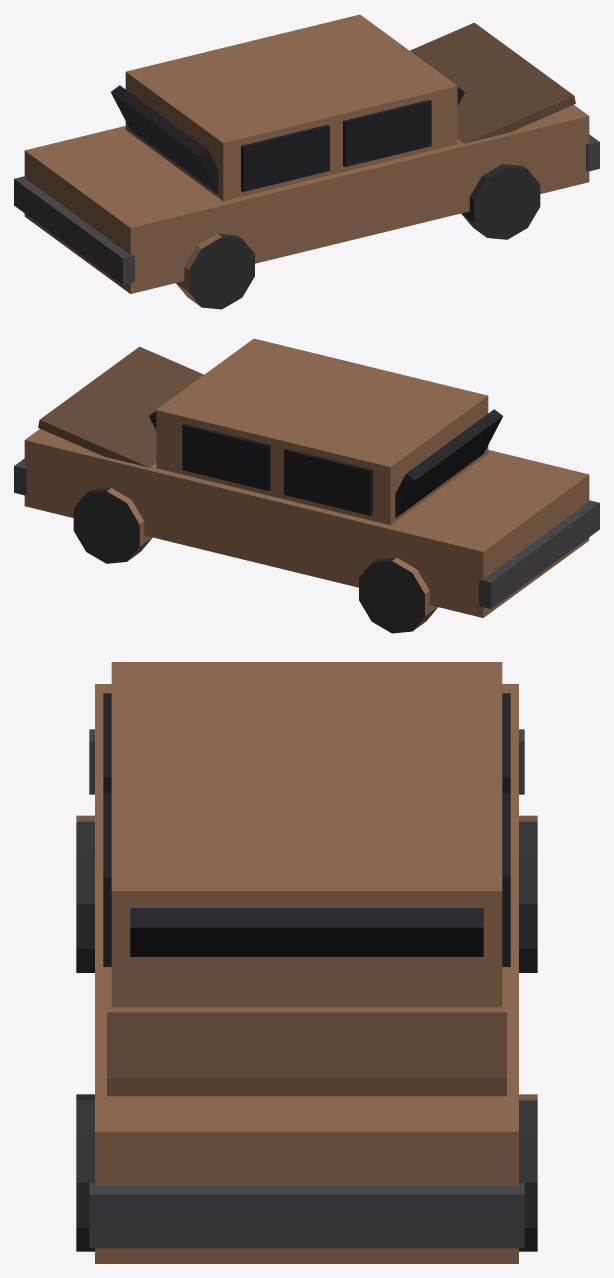
File: v2_car_sedan_b.glb
The picture shows the model from 3 angles, top to bottom: view 1: azimuth 30°, elevation 25°; view 2: azimuth 150°, elevation 25°; view 3: azimuth 270°, elevation 25°; orthographic projection. The views are drawn at different scales.
Visible parts, largest first — view 1: v2_car_sedan_b; view 2: v2_car_sedan_b; view 3: v2_car_sedan_b.
Part boxes in pixels (x1,y1,x2,y2): v2_car_sedan_b: (14,14,599,309); v2_car_sedan_b: (14,338,599,633); v2_car_sedan_b: (76,662,537,1263).
Size of the model in its own units: 4.68 by 1.48 by 1.96.
